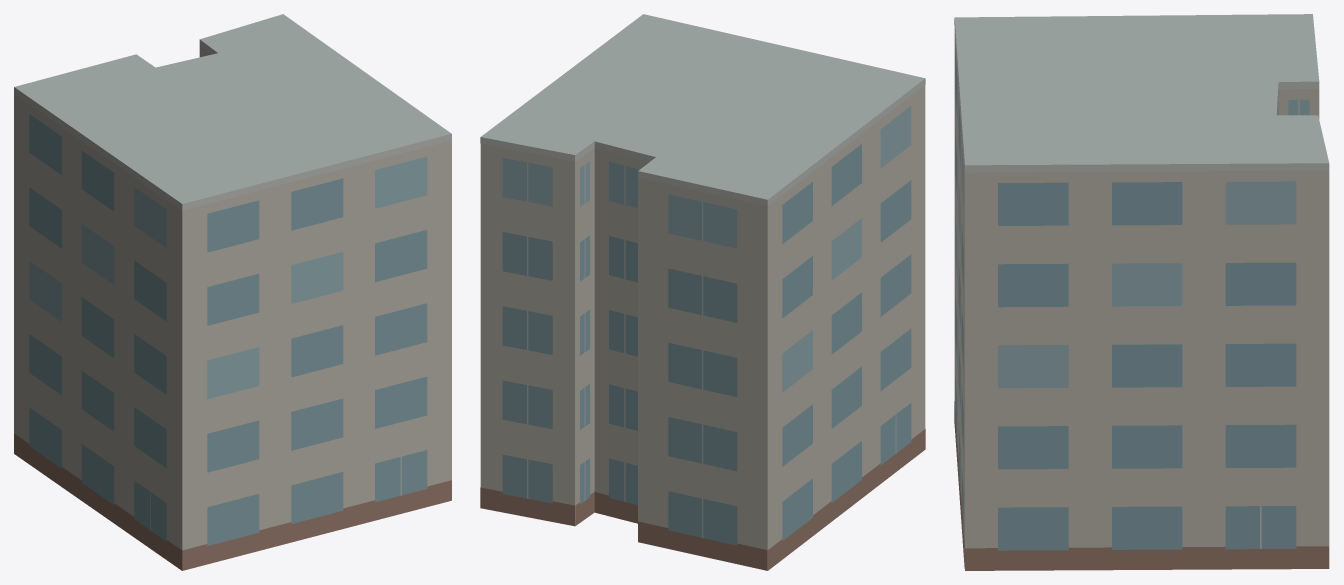
The model's file is survey-upis-32638172.glb.
3 views of the same model, side by side, from view 1: azimuth 30°, elevation 25°; view 2: azimuth 150°, elevation 25°; view 3: azimuth 270°, elevation 25° (orthographic). The views are drawn at different scales.
Visible parts, largest first — view 1: survey-upis-32638172.tmp; view 2: survey-upis-32638172.tmp; view 3: survey-upis-32638172.tmp.
Boxes of the visible parts, box(x1,y1,x2,y2) form: survey-upis-32638172.tmp: box(14, 14, 451, 570); survey-upis-32638172.tmp: box(480, 14, 925, 570); survey-upis-32638172.tmp: box(954, 14, 1329, 570).
Bounding box in the file's own units: 10.9 × 13.62 × 11.42.
